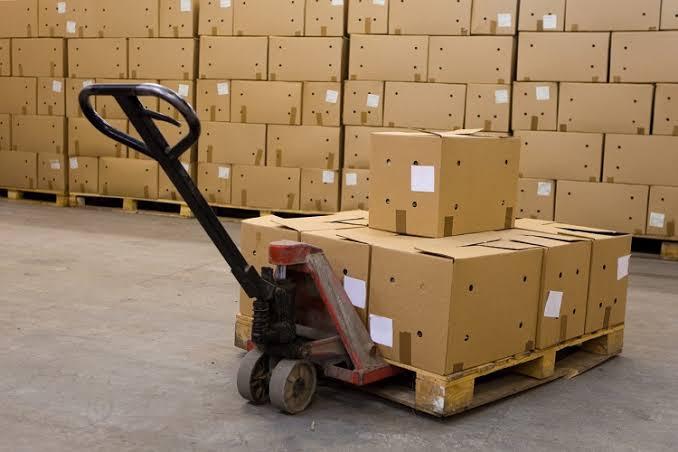box: (446, 247, 538, 377), (369, 249, 452, 376), (440, 135, 516, 238), (369, 128, 439, 238), (538, 236, 588, 352), (588, 236, 631, 336)
pallet: (386, 321, 626, 423)
